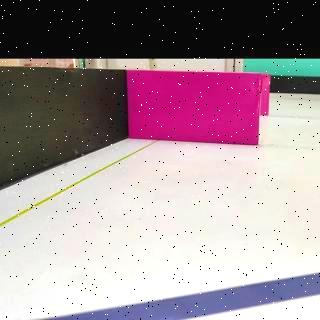xparking: (133, 74, 260, 142)
